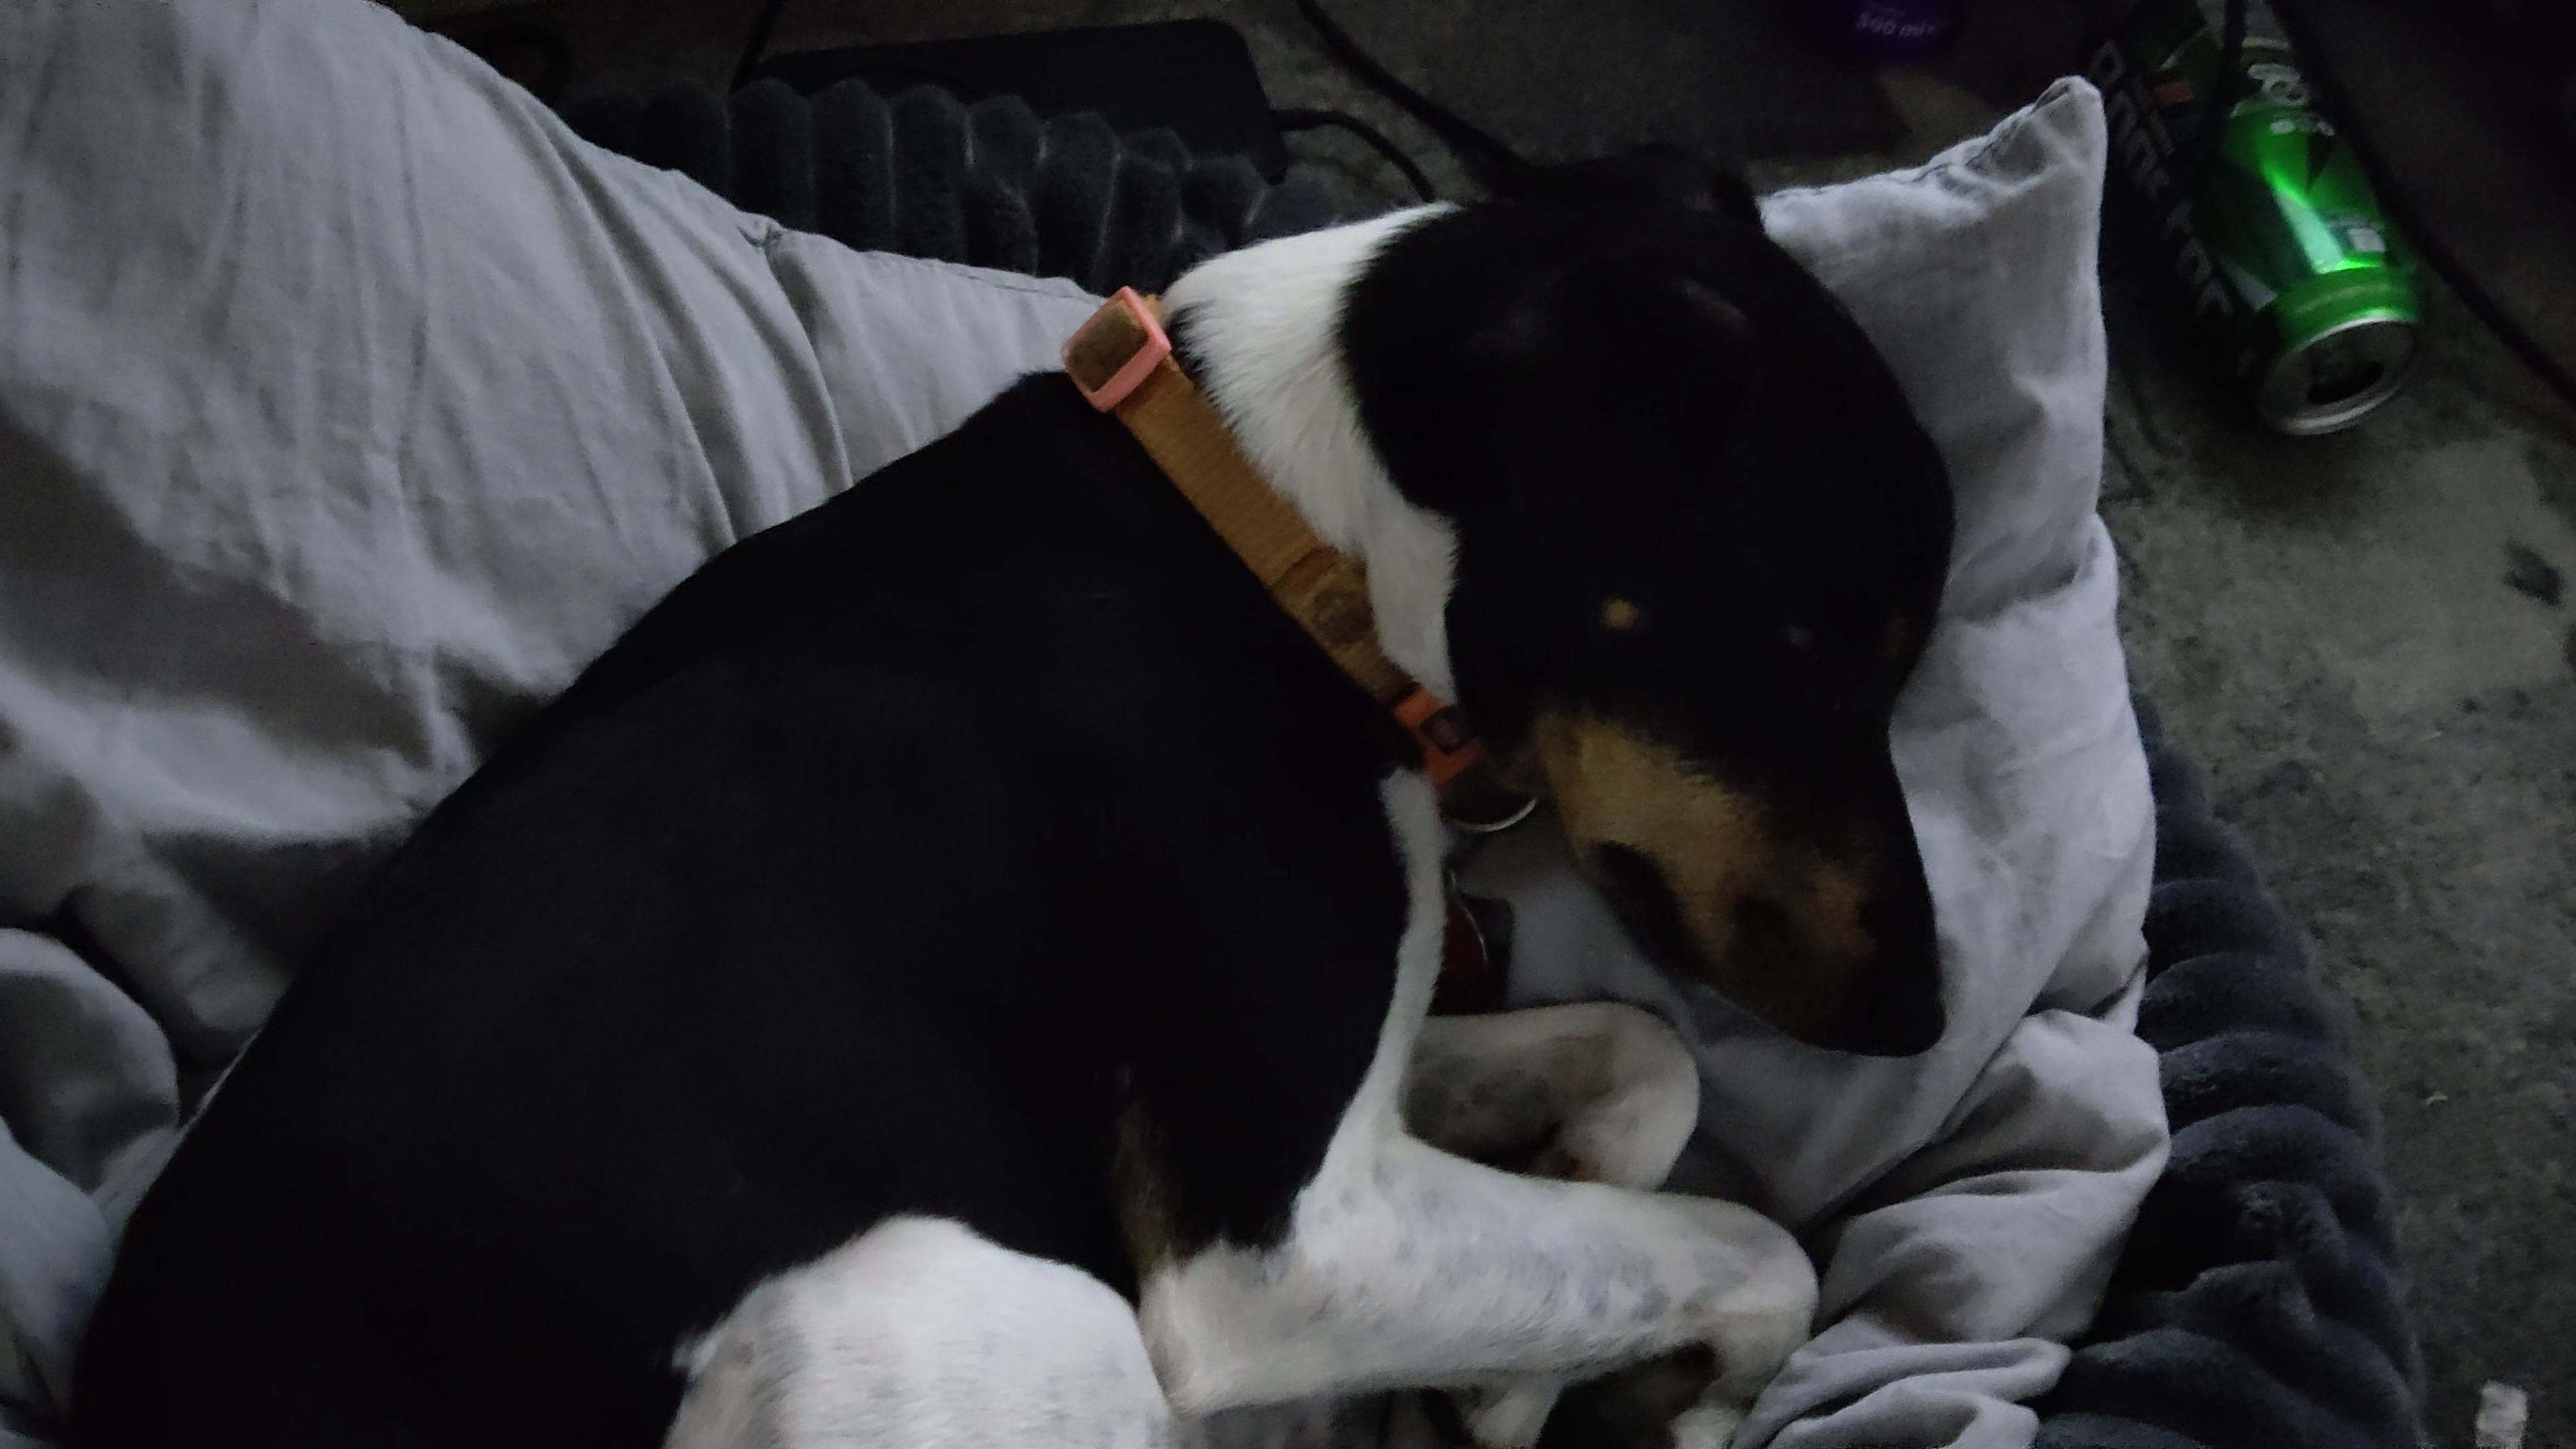Dog: (39, 119, 1987, 1449)
